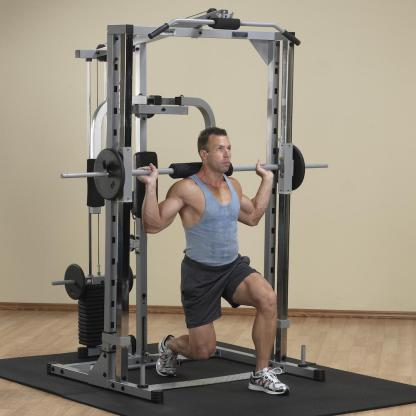smith machine: (44, 8, 327, 406)
